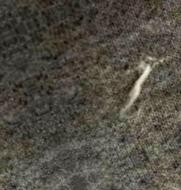snag: (117, 55, 156, 123)
